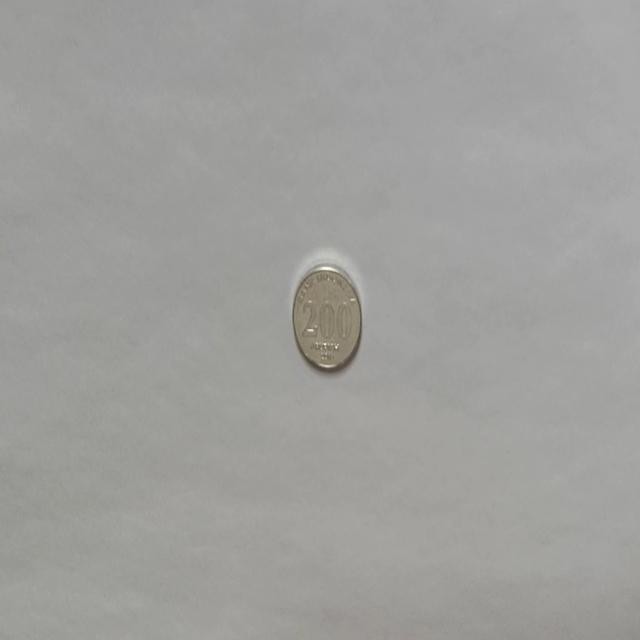dua ratus rupiah: (291, 262, 362, 372)
